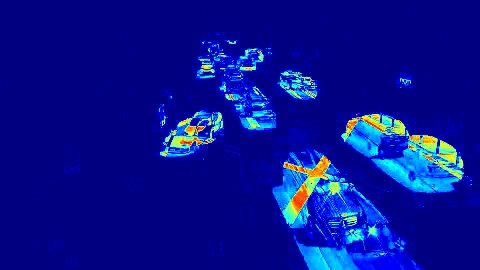vehicle: (281, 163, 360, 237), (174, 123, 213, 146), (244, 97, 269, 125), (286, 73, 308, 101), (197, 64, 215, 78), (224, 77, 240, 90)
